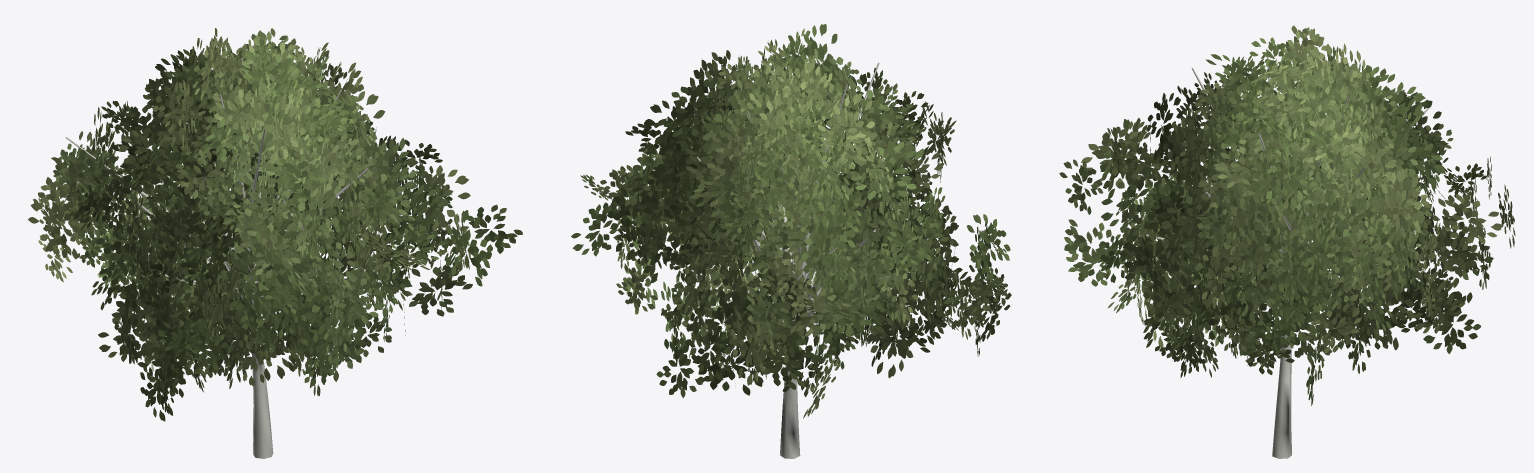
The model's file is birch_0.glb.
3 views of the same model, side by side, from view 1: azimuth 30°, elevation 25°; view 2: azimuth 150°, elevation 25°; view 3: azimuth 270°, elevation 25° (orthographic).
Visible parts, largest first — view 1: birch_0; view 2: birch_0; view 3: birch_0.
Boxes of the visible parts, x1,y1,x2,y2 form: birch_0: (28,28,522,458); birch_0: (571,24,1011,458); birch_0: (1059,25,1515,458).
Size of the model in its own units: 1 by 1 by 0.9873.
2 materials, 1 textured.
